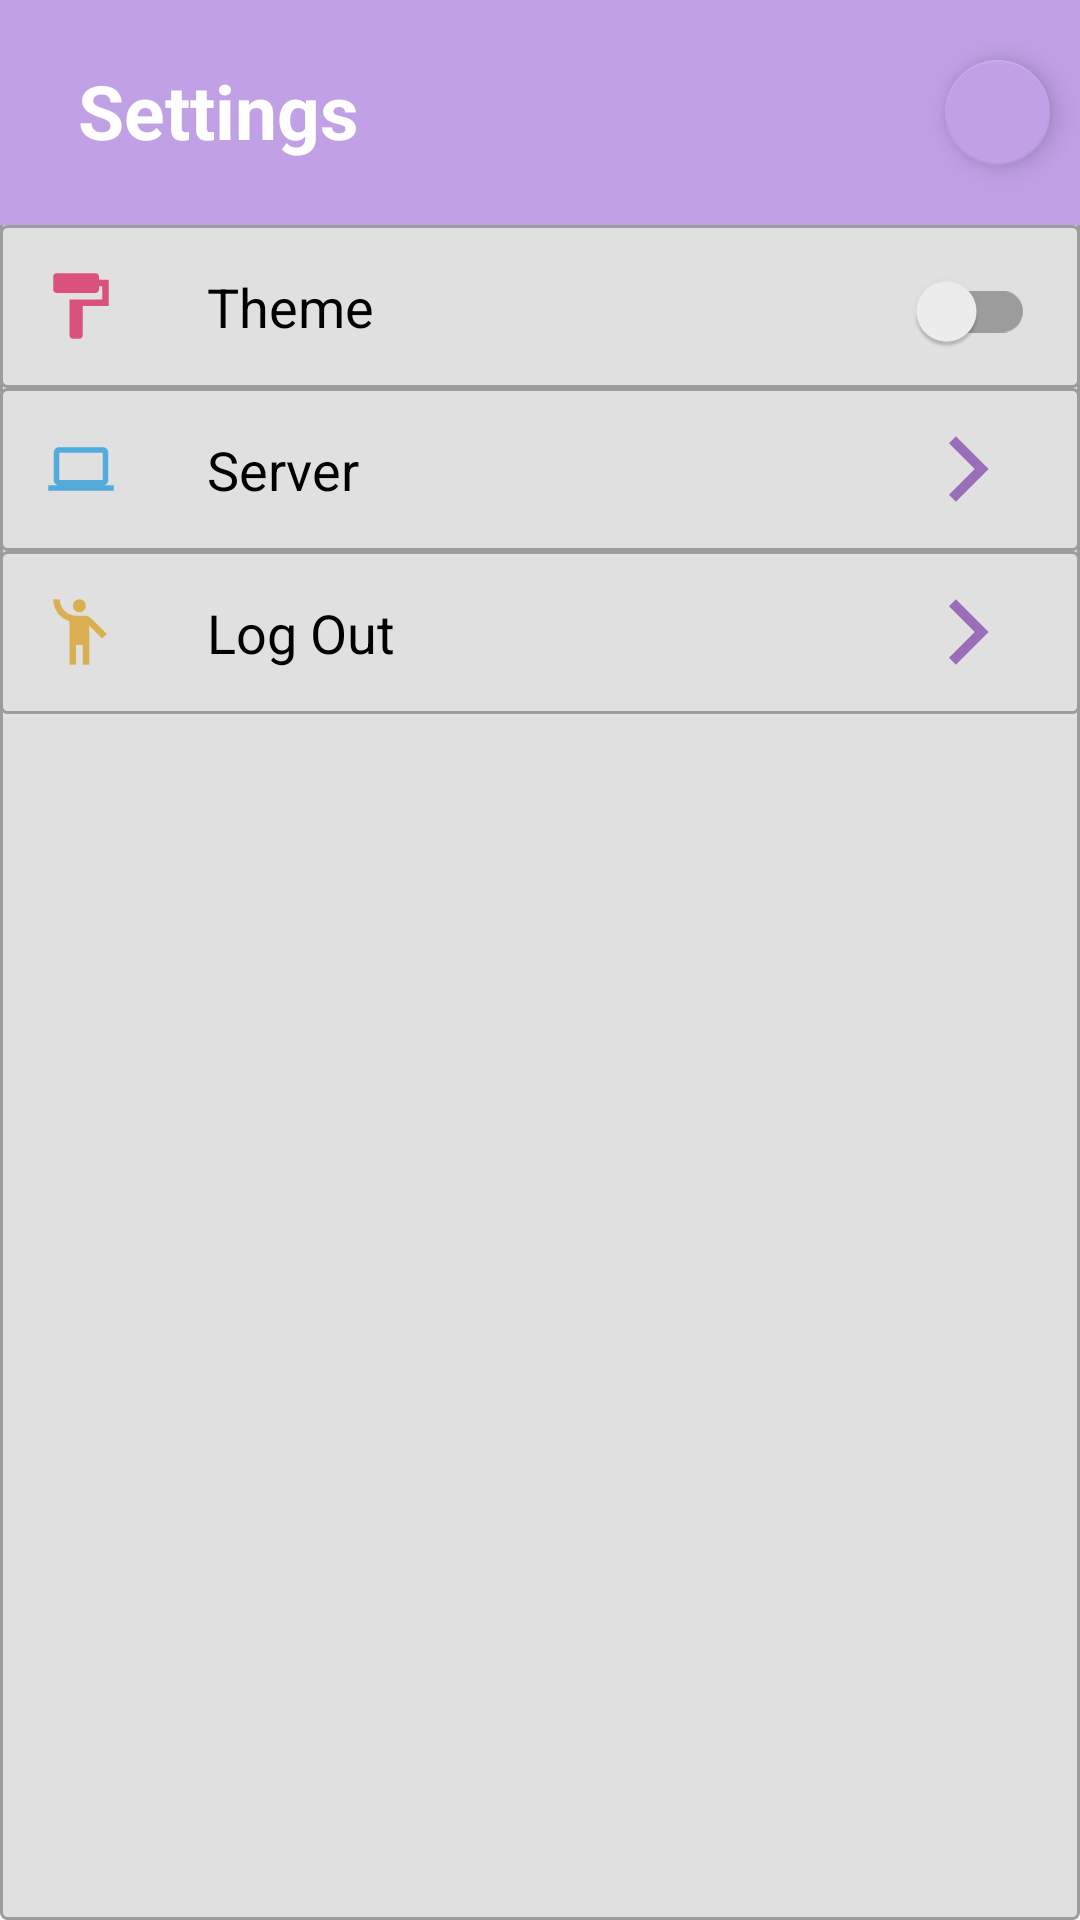

Screen size 1080*1920. Icon name, then its center in pixels as point (x, y):
go option settings: point (968, 469), point (968, 632)
paint: point (81, 306)
